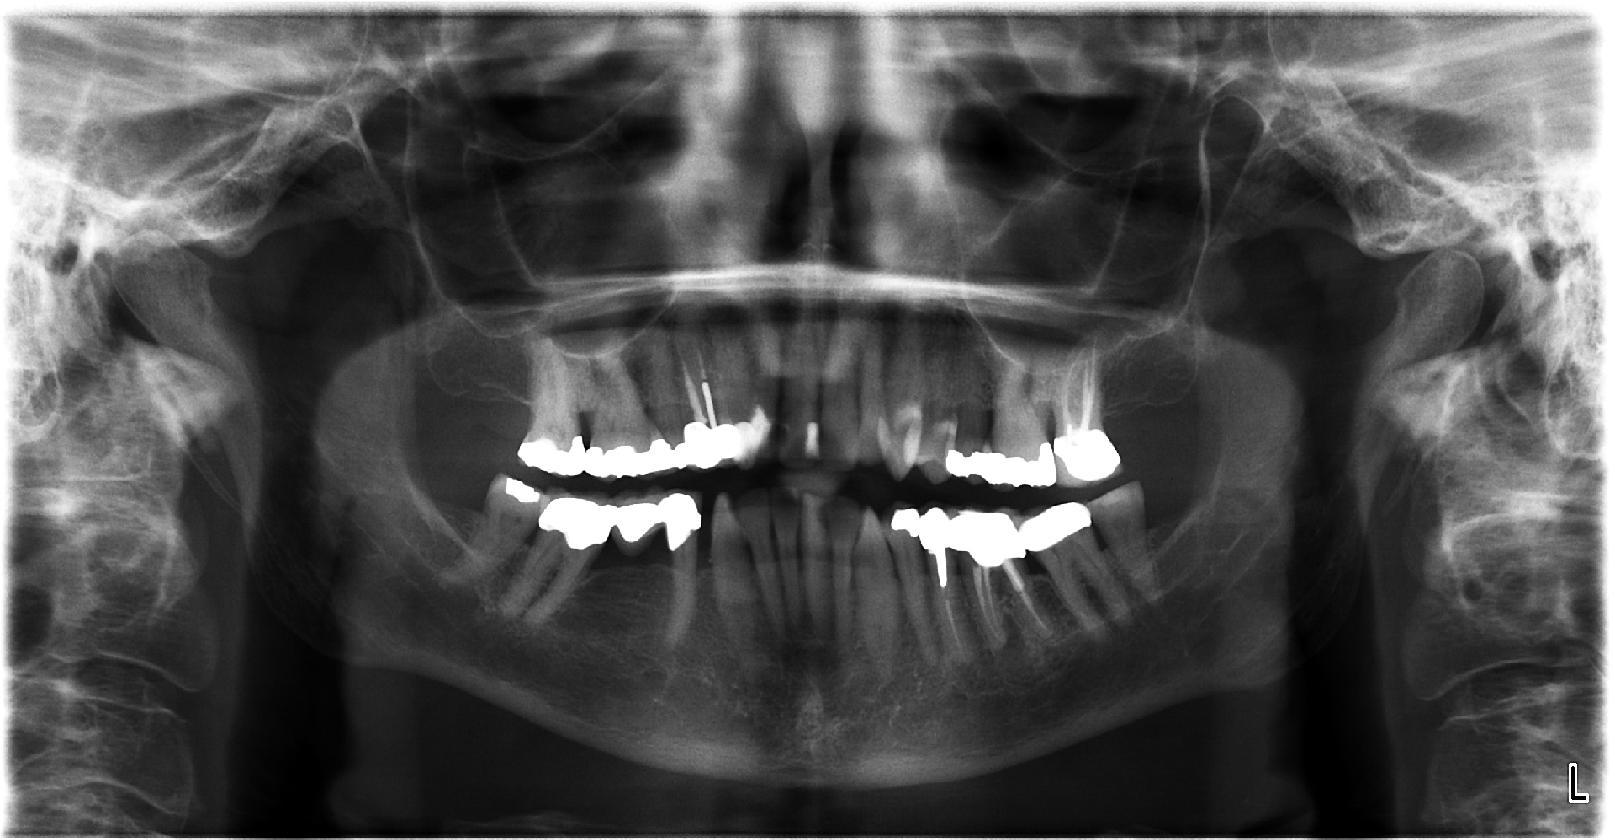Erupted: (1099, 485, 1169, 622)
